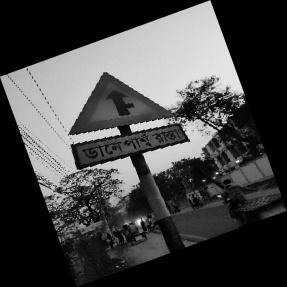Side-road-right: (67, 71, 184, 171)
